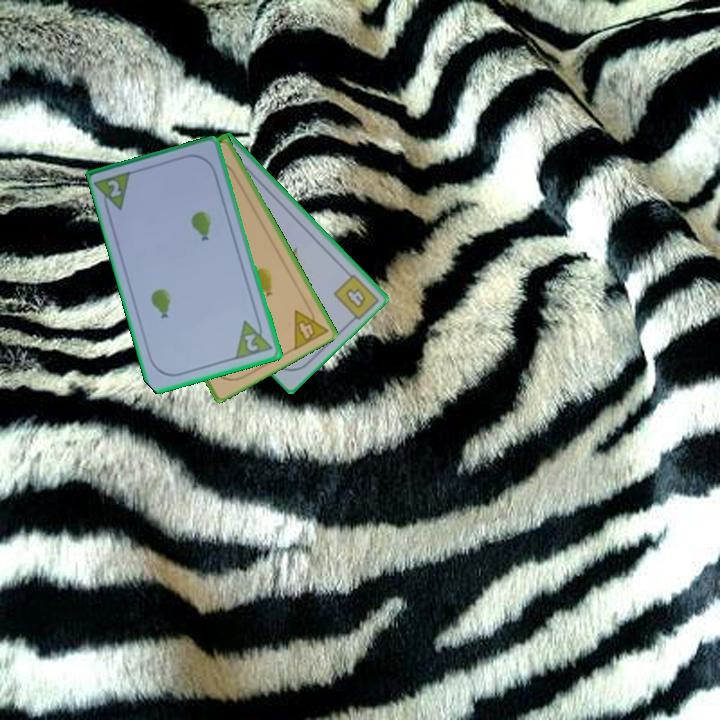2p: (232, 314, 276, 363), (104, 176, 124, 200)
4b: (342, 284, 369, 312)
4p: (290, 298, 331, 353)
